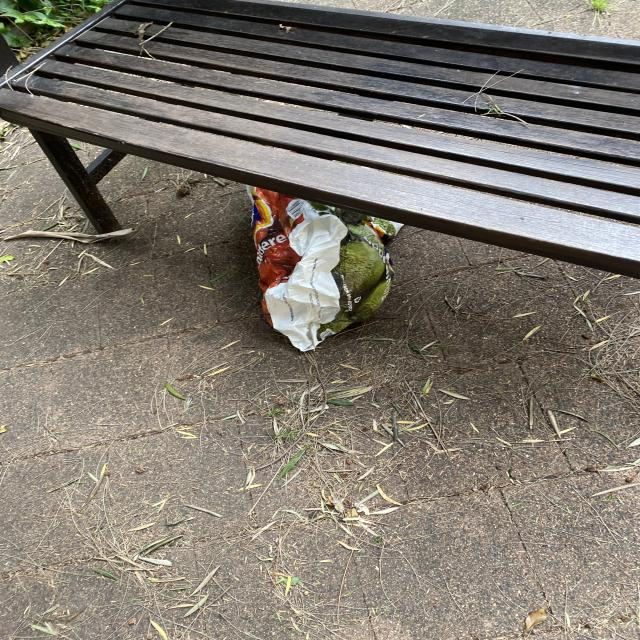bag: (247, 184, 403, 351)
